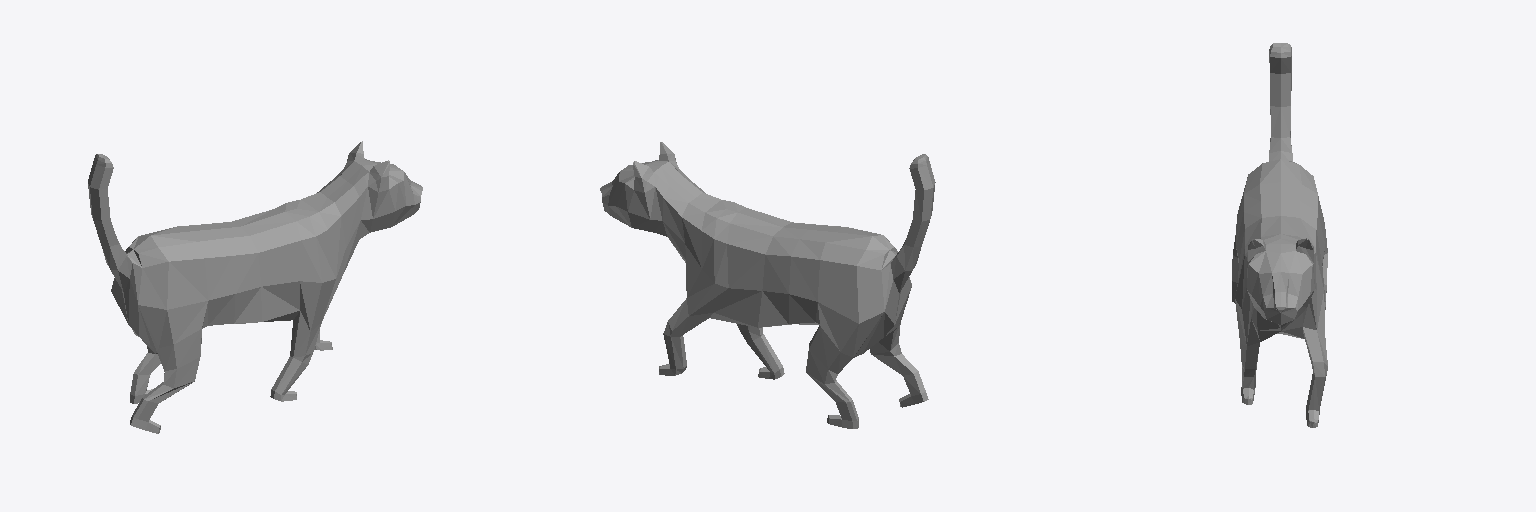
The model's file is Cat.obj.
3 views of the same model, side by side, from view 1: azimuth 30°, elevation 25°; view 2: azimuth 150°, elevation 25°; view 3: azimuth 270°, elevation 25° (orthographic).
Visible parts, largest first — view 1: Cat_Cylinder; view 2: Cat_Cylinder; view 3: Cat_Cylinder.
Part boxes in pixels (x1,y1,x2,y2): Cat_Cylinder: (88,141,422,433); Cat_Cylinder: (600,142,935,428); Cat_Cylinder: (1232,43,1327,427).
Bounding box in the file's own units: 5.67 × 4.48 × 1.43.